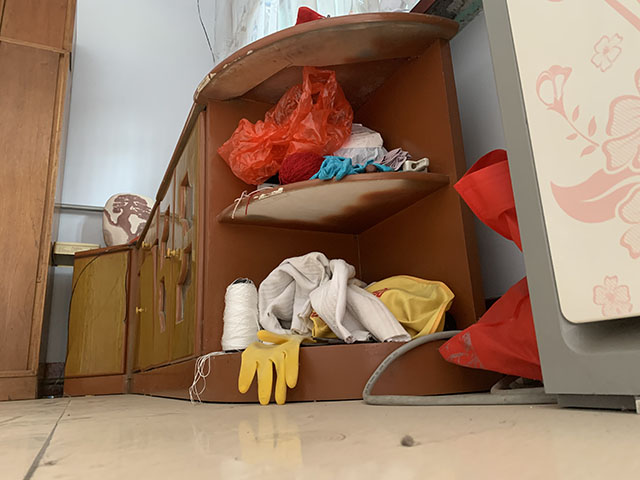cabinet: (61, 9, 494, 406)
wire: (362, 330, 557, 407), (43, 243, 128, 397)
